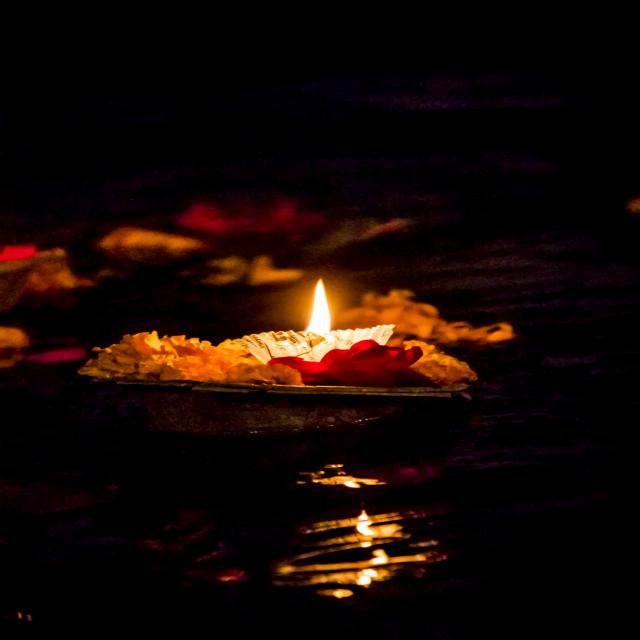fire: (296, 261, 354, 337)
